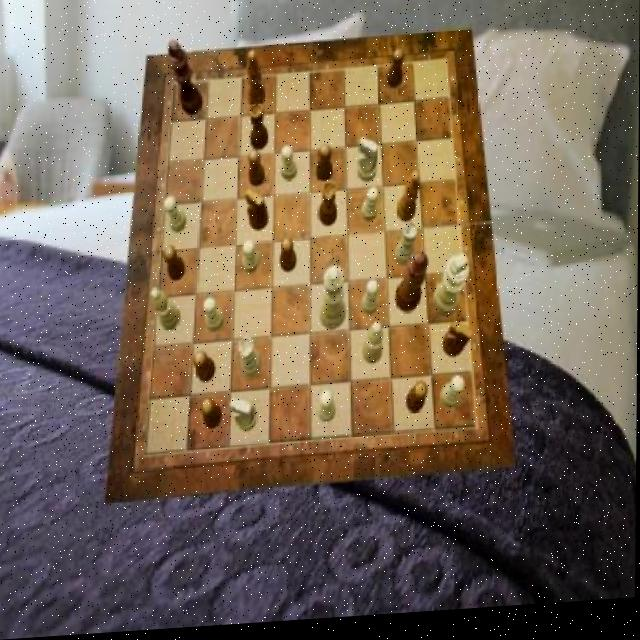bishop: (396, 176, 419, 229), (248, 52, 266, 111)
black-bishop: (167, 40, 203, 119)
black-king: (442, 324, 473, 363), (245, 191, 268, 234)
black-knight: (164, 247, 186, 283), (194, 353, 217, 387), (200, 400, 222, 434), (406, 387, 428, 420), (385, 54, 403, 94), (316, 148, 333, 185), (248, 154, 265, 191), (280, 241, 297, 276)
black-pawn: (396, 258, 429, 321)
black-queen: (249, 106, 268, 155), (318, 186, 337, 232)
black-rook: (151, 289, 181, 334), (363, 326, 384, 370)
white-bishop: (432, 260, 469, 324)
white-king: (357, 140, 378, 187), (230, 399, 257, 435)
white-knight: (164, 198, 187, 235), (441, 382, 465, 416), (203, 299, 225, 334), (361, 192, 379, 228), (241, 243, 259, 278), (280, 149, 298, 184), (362, 285, 379, 320), (318, 395, 336, 428)
white-pawn: (319, 269, 346, 335)
white-queen: (394, 225, 419, 271), (238, 340, 261, 381)
